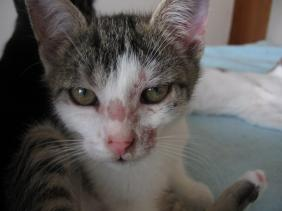ringworm: (107, 94, 126, 123), (140, 126, 155, 149), (128, 102, 141, 123), (128, 82, 139, 100), (135, 67, 149, 81)
